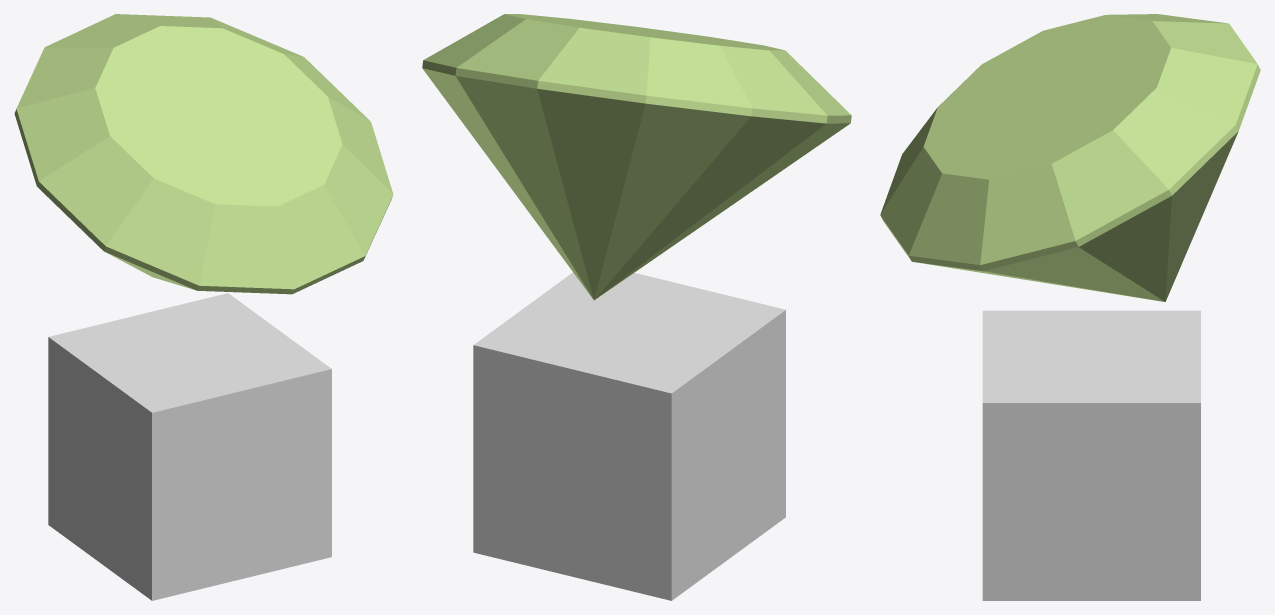
The model's file is crystal-statue.fbx.
3 views of the same model, side by side, from view 1: azimuth 30°, elevation 25°; view 2: azimuth 150°, elevation 25°; view 3: azimuth 270°, elevation 25° (orthographic). The views are drawn at different scales.
Visible parts, largest first — view 1: group655375255, Cube; view 2: Cube, group655375255; view 3: group655375255, Cube.
Boxes of the visible parts, box(x1,y1,x2,y2) form: group655375255: box(14, 14, 393, 294); Cube: box(48, 293, 331, 600); Cube: box(473, 272, 785, 600); group655375255: box(422, 14, 851, 300); group655375255: box(880, 14, 1260, 301); Cube: box(982, 310, 1200, 600).
Size of the model in its own units: 377 by 516 by 349.
